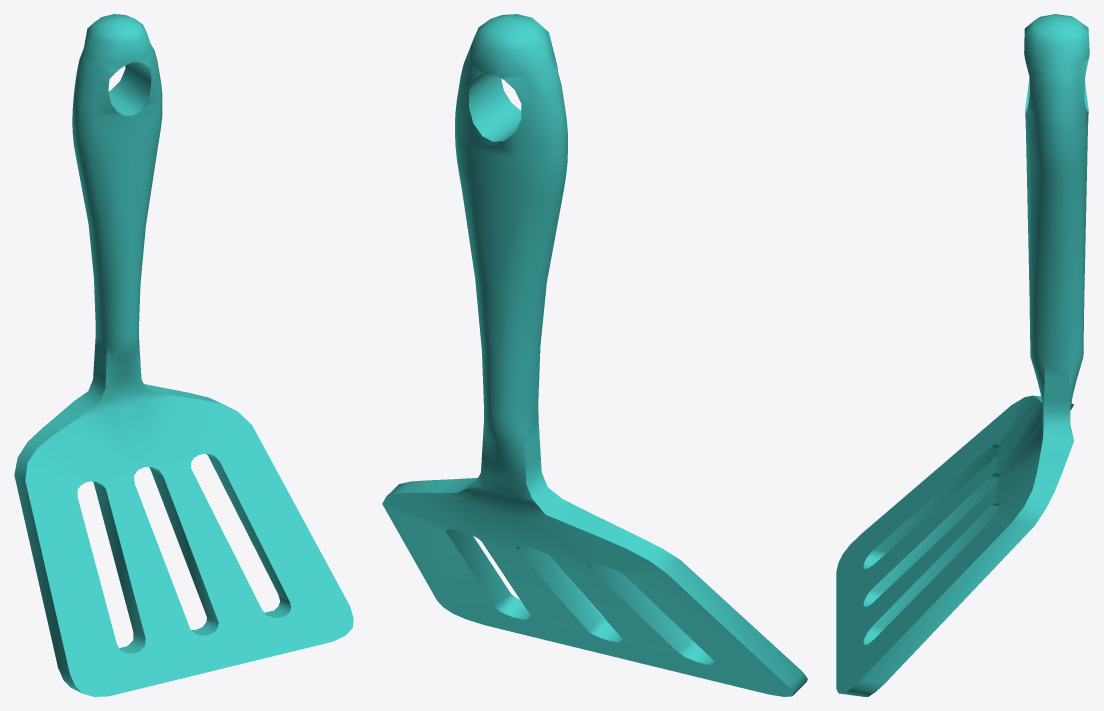
File: spatula.obj
3 views of the same model, side by side, from view 1: azimuth 30°, elevation 25°; view 2: azimuth 150°, elevation 25°; view 3: azimuth 270°, elevation 25° (orthographic). The views are drawn at different scales.
Visible parts, largest first — view 1: Retopo_20201130_mesh; view 2: Retopo_20201130_mesh; view 3: Retopo_20201130_mesh.
Part boxes in pixels (<box>): Retopo_20201130_mesh: <box>14,14,353,696</box>; Retopo_20201130_mesh: <box>382,14,807,696</box>; Retopo_20201130_mesh: <box>836,14,1089,696</box>.
Bounding box in the file's own units: 0.1361 × 0.2679 × 0.1002.
